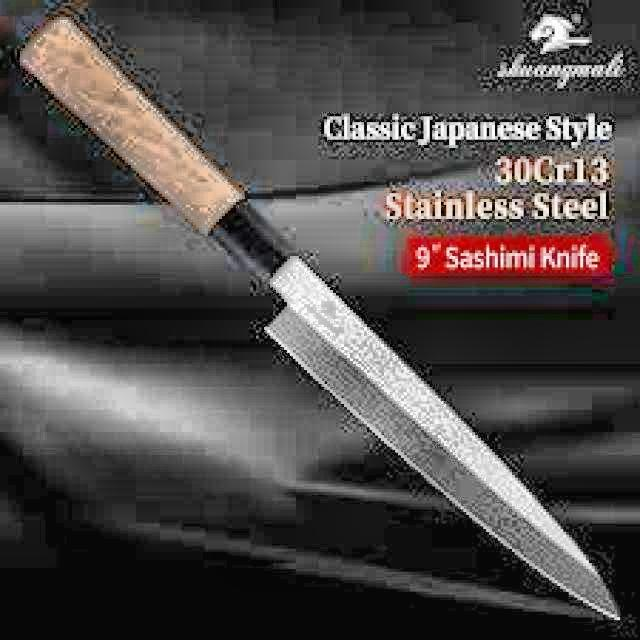knife: (21, 19, 619, 623)
